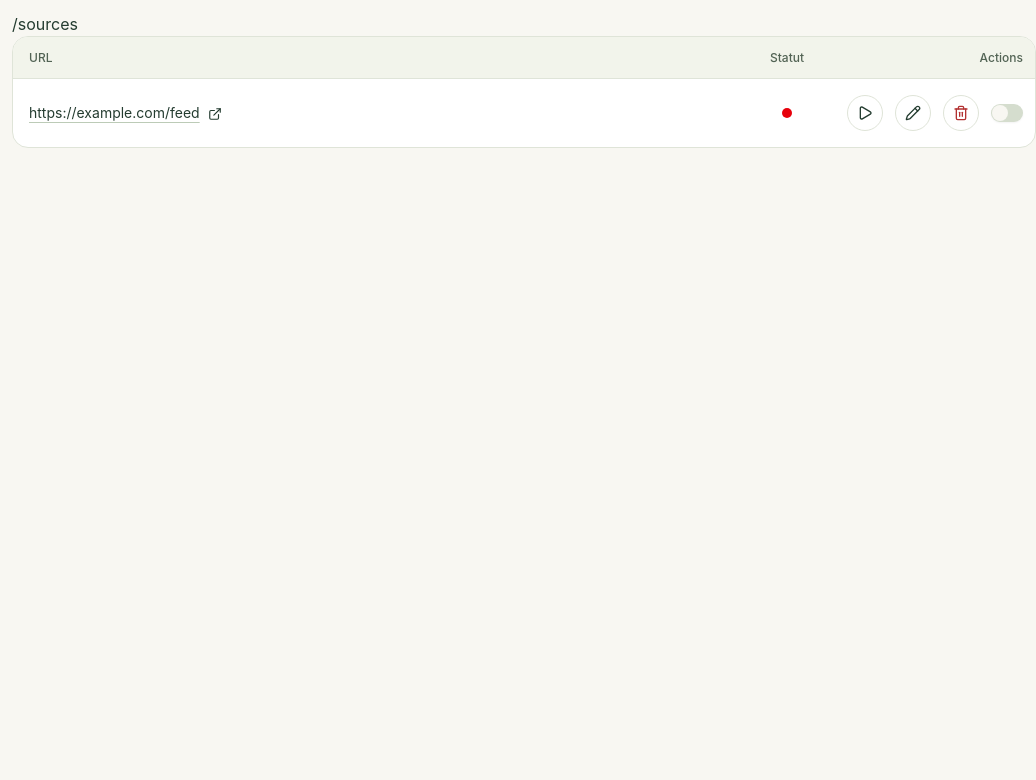
does not expose source ordering for RSS
The image size is (1036, 780).
Click the link named "Modifier https://example.com/feed".
click(913, 113)  # box top-left (895, 95), bottom-right (931, 131)
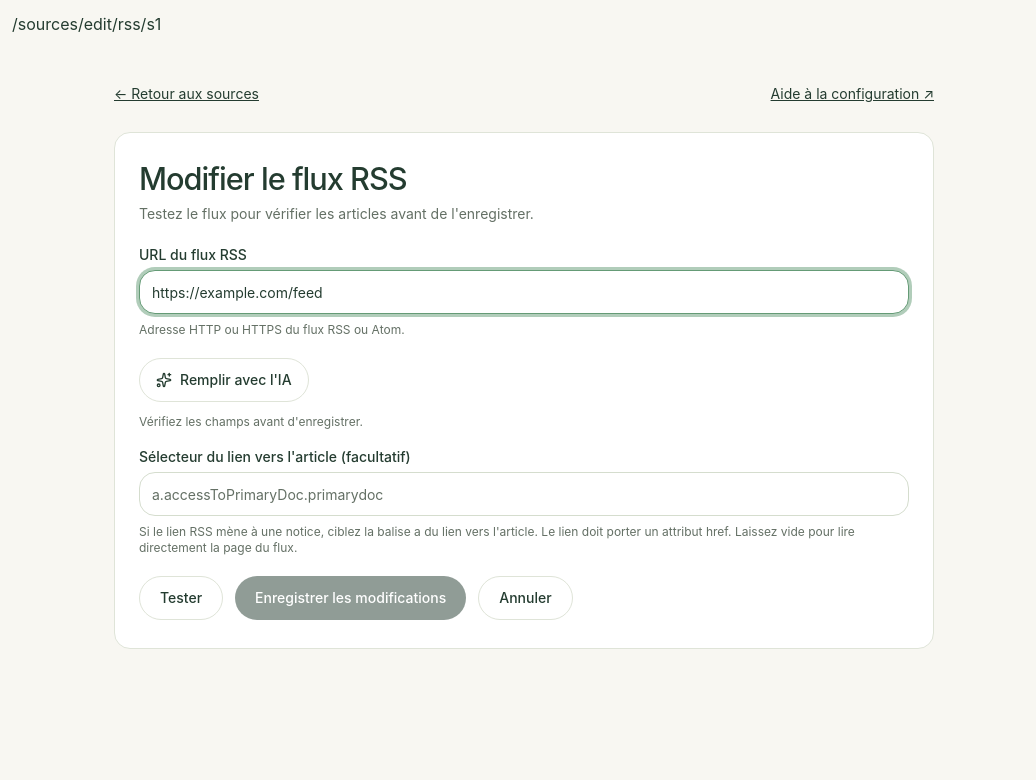
Now the field labelled "URL du flux RSS" holds "https://example.com/feed", box top-left (139, 270), bottom-right (909, 314)
Now the button "Enregistrer les modifications" is disabled, box top-left (235, 576), bottom-right (466, 620)
